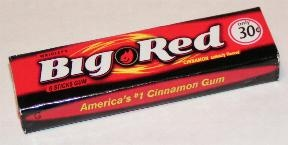grozi_7: (9, 7, 279, 134)
